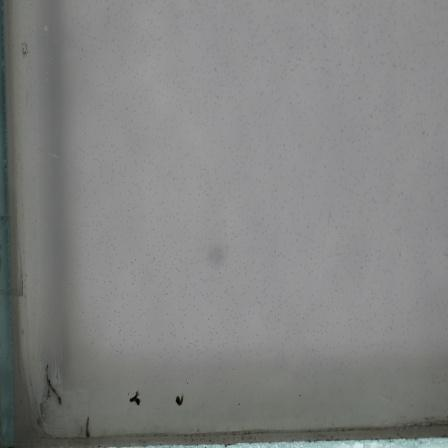Jentik-Nyamuk: (43, 376, 66, 410), (81, 412, 95, 442), (126, 388, 143, 408), (173, 389, 186, 409)
